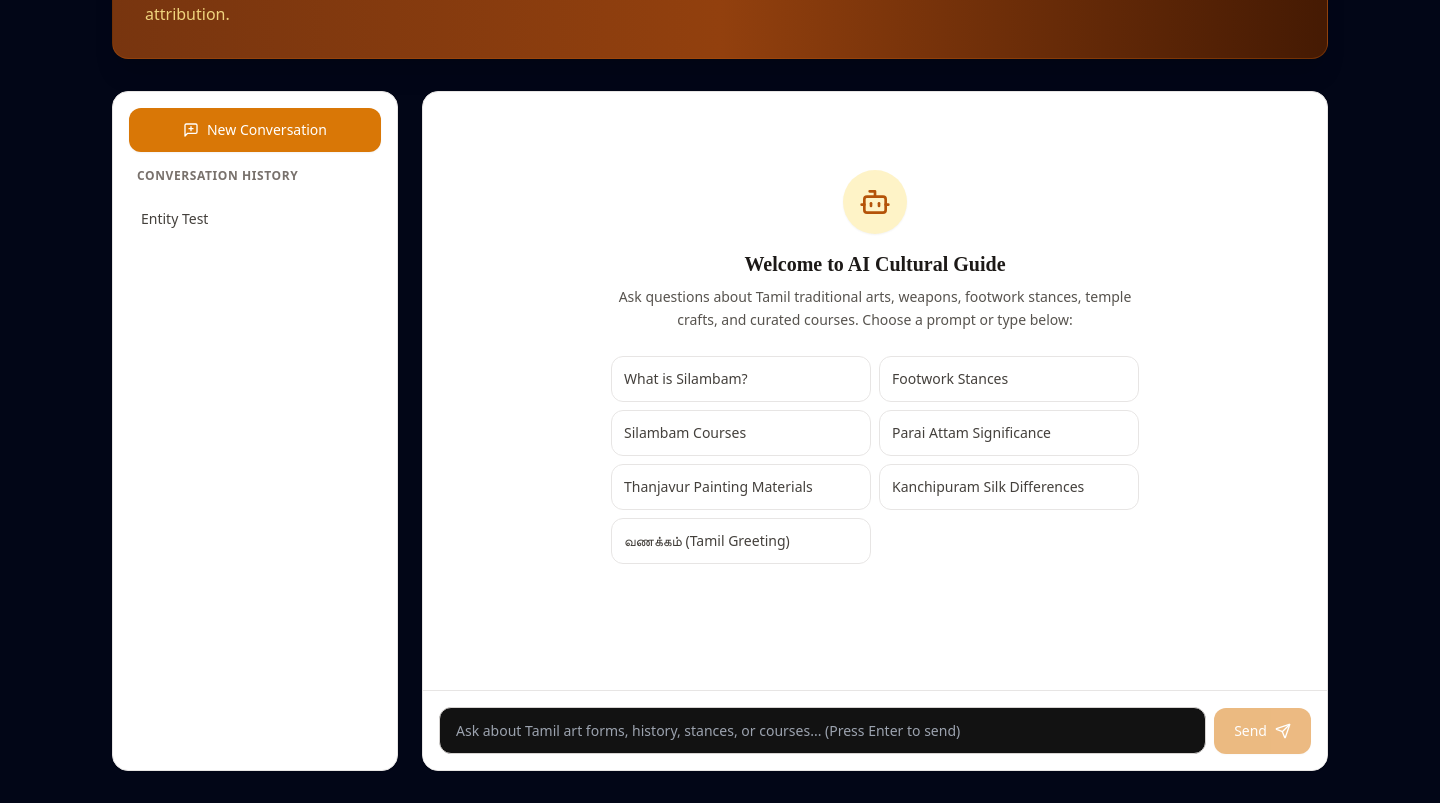
Test: Phase 5 AI Cultural Guide UI › decodes HTML entities and strips escaped asterisks and standalone svg text
(page scrolled)
Click the text "Entity Test" at [175, 218], box [141,209,208,228]
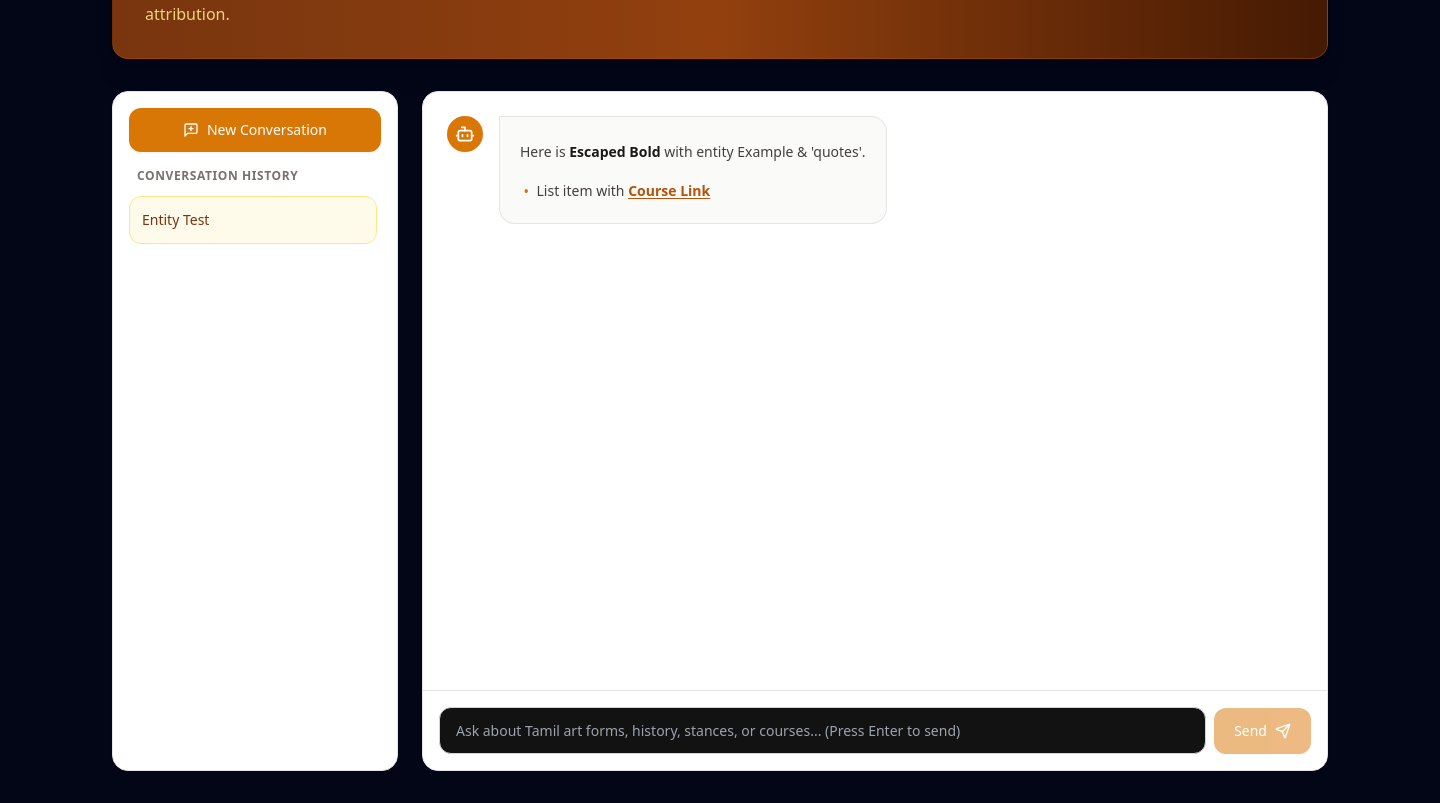
Check: the text "Escaped Bold" is shown, box [569,142,661,161]
